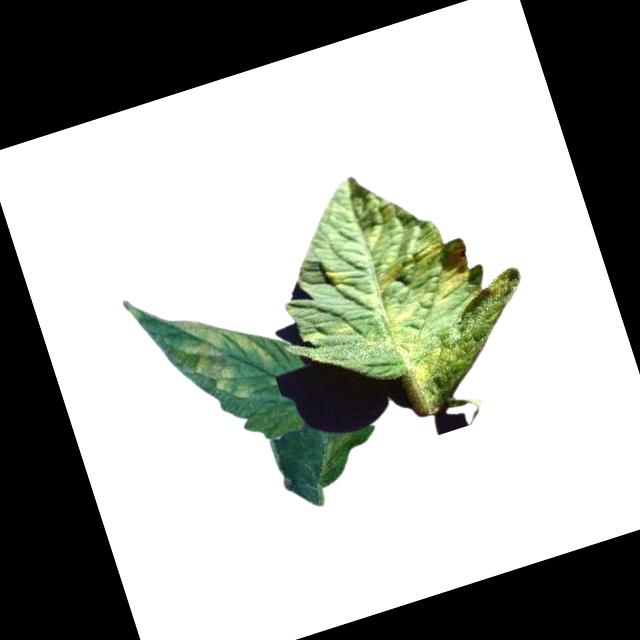Leaf_Mold: (346, 151, 551, 412), (169, 293, 282, 413), (321, 259, 354, 291)
